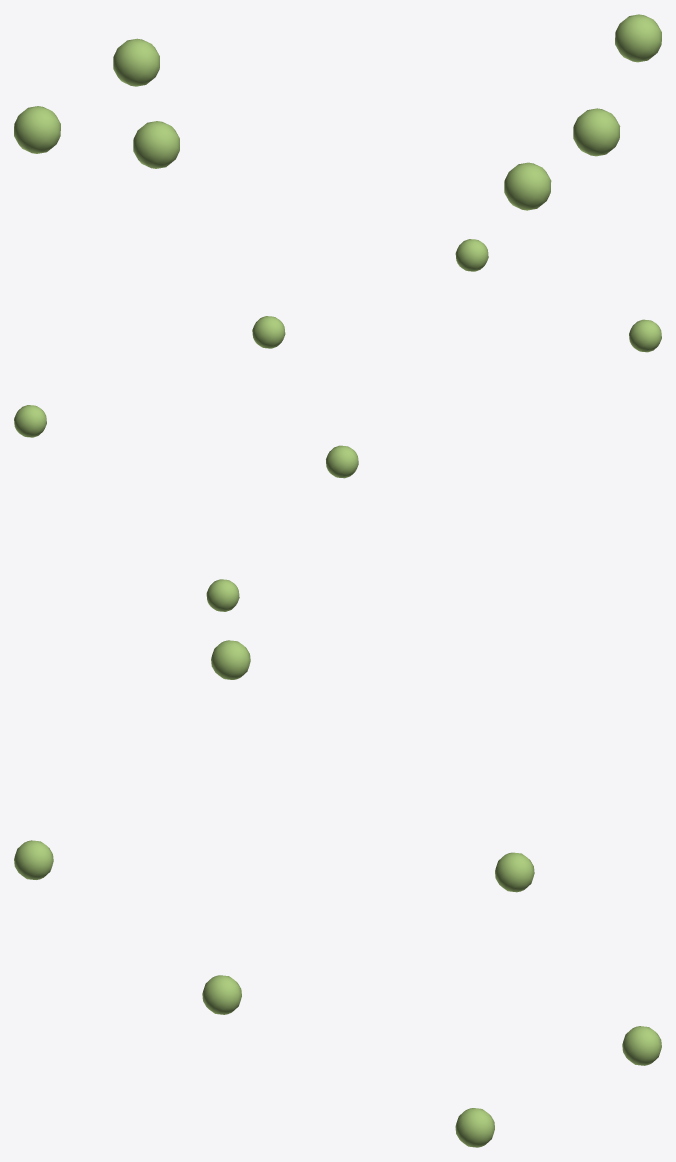
Rendered from superior-diaphragmatic-nodes.glb.
The picture shows the model from 3 angles, top to bottom: view 1: azimuth 30°, elevation 25°; view 2: azimuth 150°, elevation 25°; view 3: azimuth 270°, elevation 25°; orthographic projection. The views are drawn at different scales.
Parts seen in each view (by area): view 1: Superior diaphragmatic nodes; view 2: Superior diaphragmatic nodes; view 3: Superior diaphragmatic nodes.
Part boxes in pixels (<box>): Superior diaphragmatic nodes: <box>14,14,661,210</box>; Superior diaphragmatic nodes: <box>14,239,661,611</box>; Superior diaphragmatic nodes: <box>14,640,661,1147</box>.
Size of the model in its own units: 0.0489 by 0.0195 by 0.0419.
